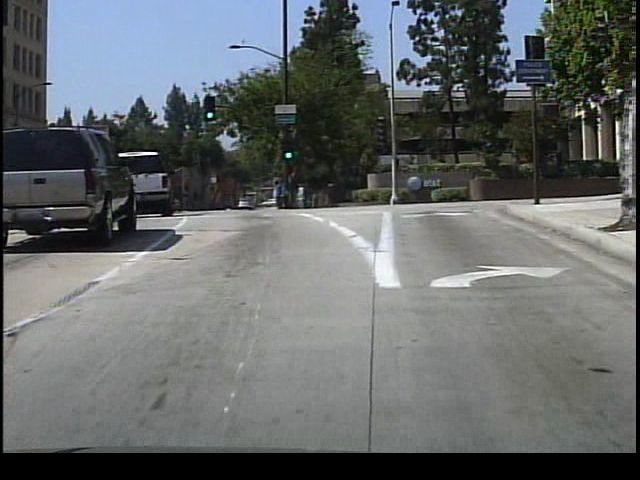person: (269, 172, 290, 212), (293, 178, 310, 211)
